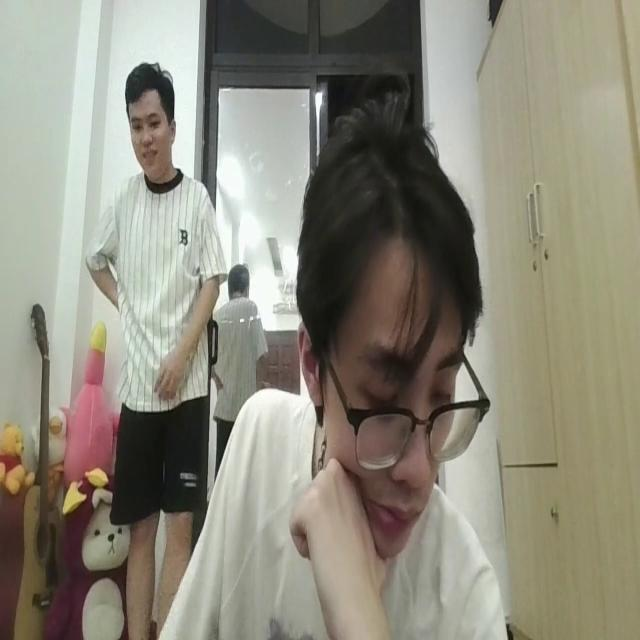extra_person: (86, 77, 217, 556)
student: (156, 95, 504, 640)
